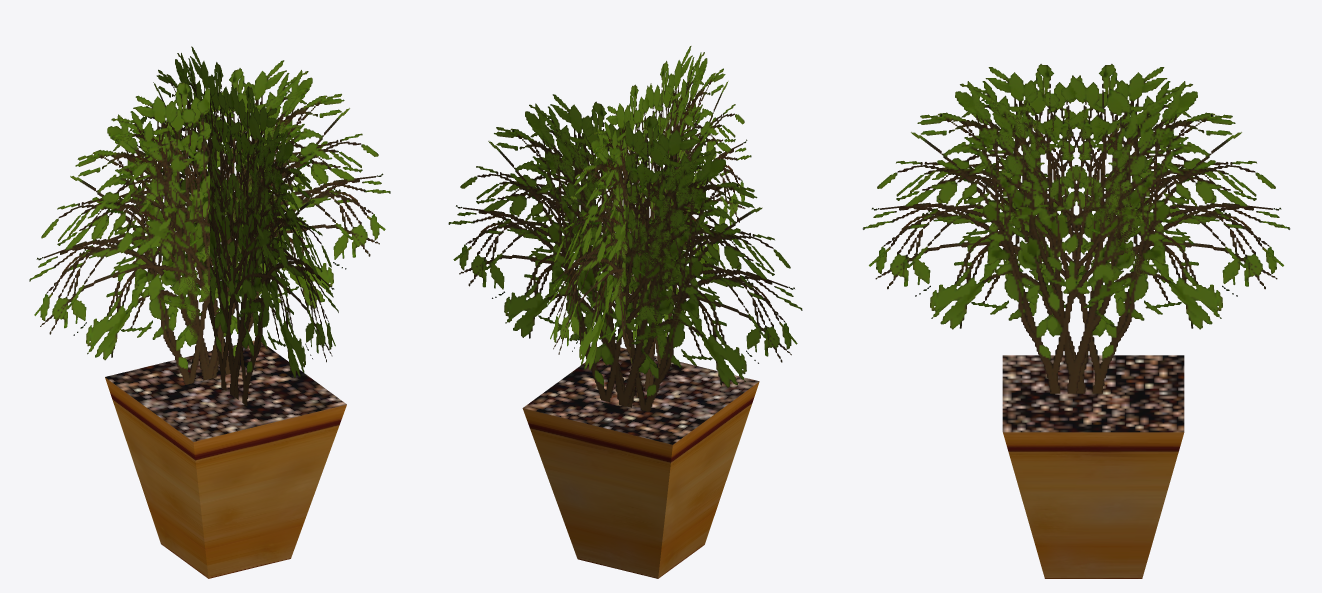
Rendered from Plant.fbx.
3 renders of one model, left to right at view 1: azimuth 30°, elevation 25°; view 2: azimuth 150°, elevation 25°; view 3: azimuth 270°, elevation 25°, orthographic. The views are drawn at different scales.
Parts seen in each view (by area): view 1: PlantPot; view 2: PlantPot; view 3: PlantPot.
Boxes of the visible parts, bbox=[...] form: PlantPot: bbox=[29, 46, 390, 578]; PlantPot: bbox=[448, 46, 802, 578]; PlantPot: bbox=[862, 63, 1290, 578].
Bounding box in the file's own units: 283 × 346 × 283.
1 material, 1 textured.
